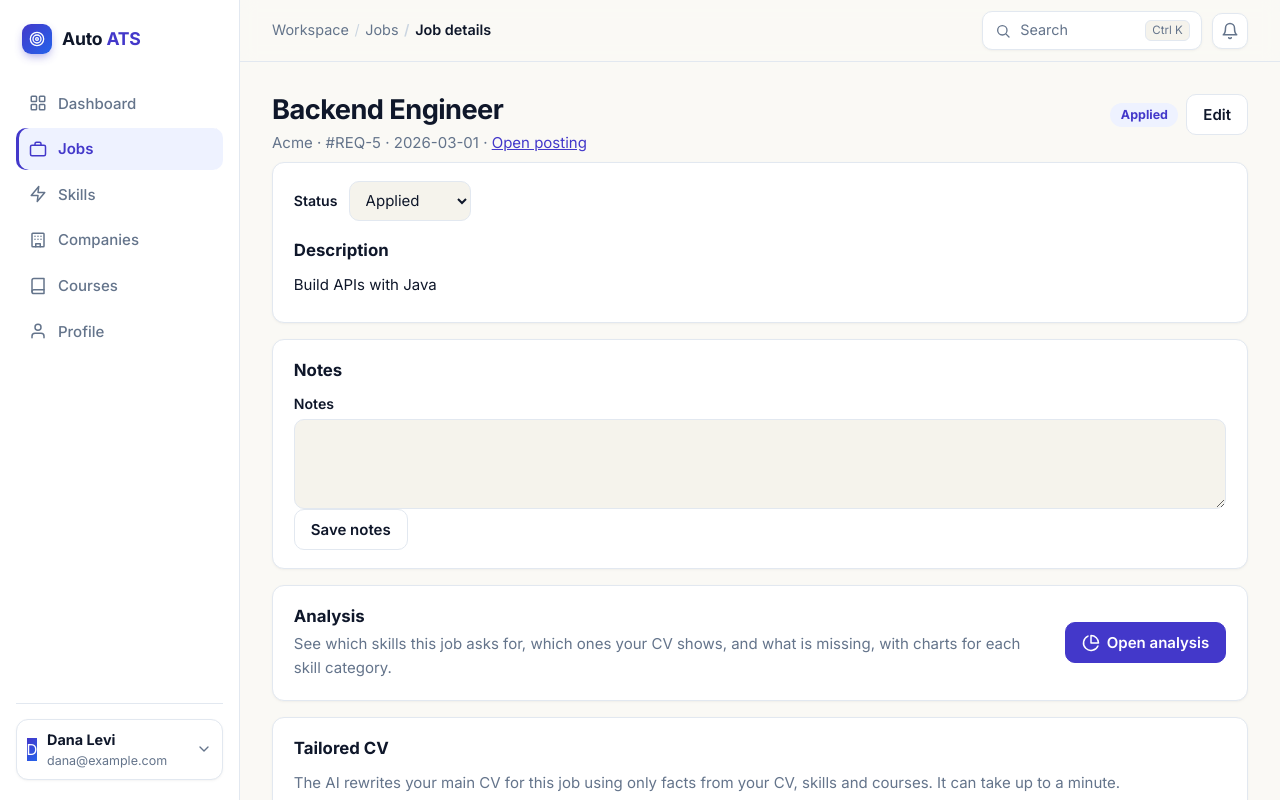
JobDetailPage status and notes › GivenEditedNotes_WhenSaving_ThenFullJobIsSentWithTheNotes
Type "Call Sam" into the text box labelled "Notes".
click(760, 464); type("Call Sam")  # box [294,420,1226,509]
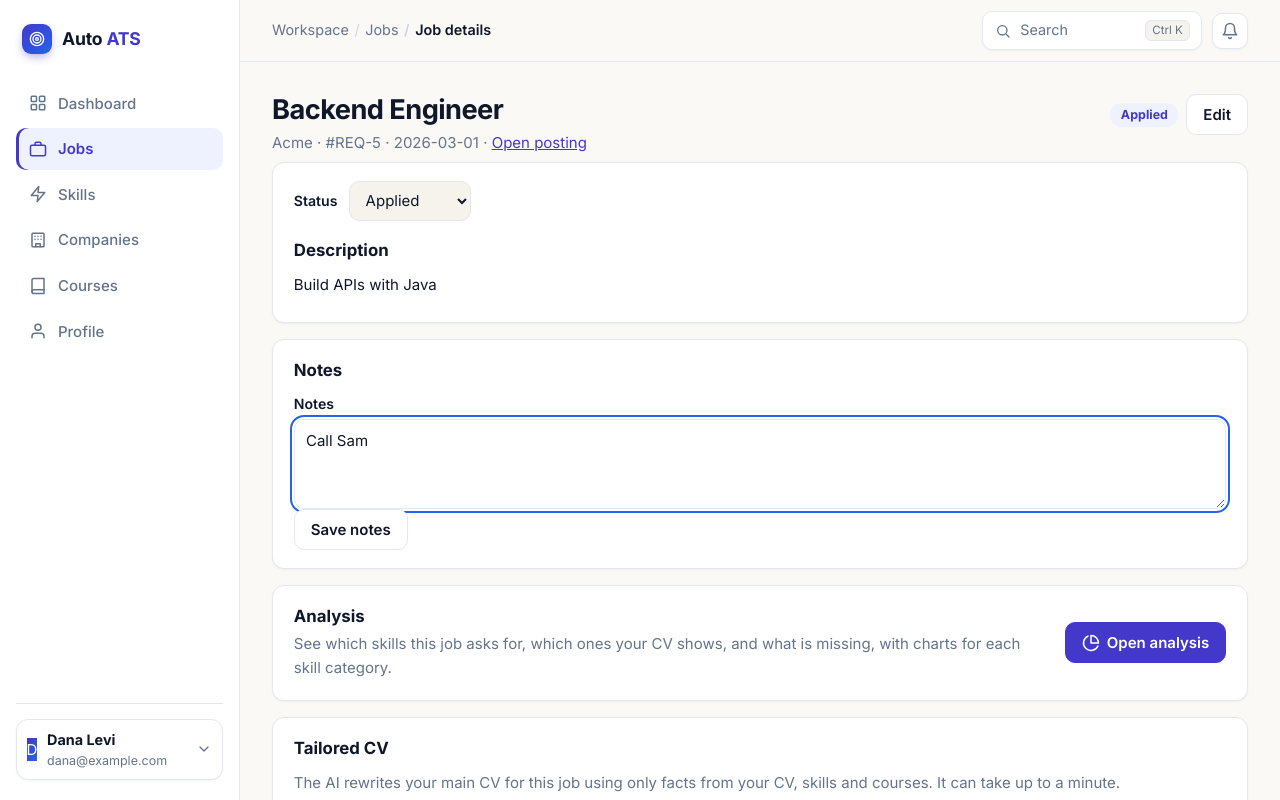
Click the button "Save notes".
click(351, 529)  # box [294,509,408,550]
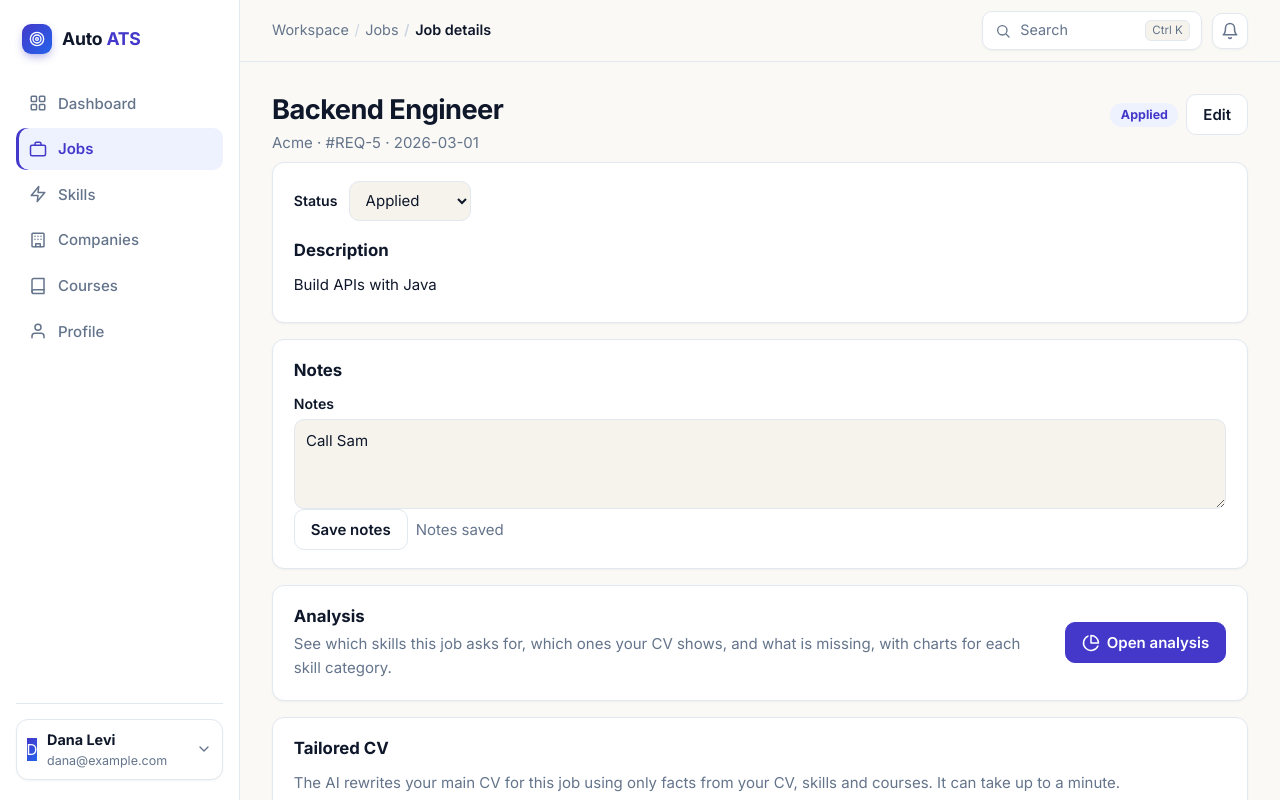
Check: the text "Notes saved" is shown, box [416,518,504,541]
